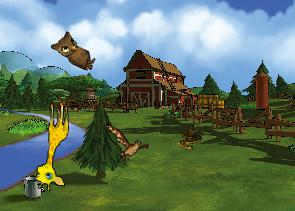eagle: (100, 122, 152, 165)
giraffe: (34, 100, 69, 191)
owl: (48, 27, 102, 72)
